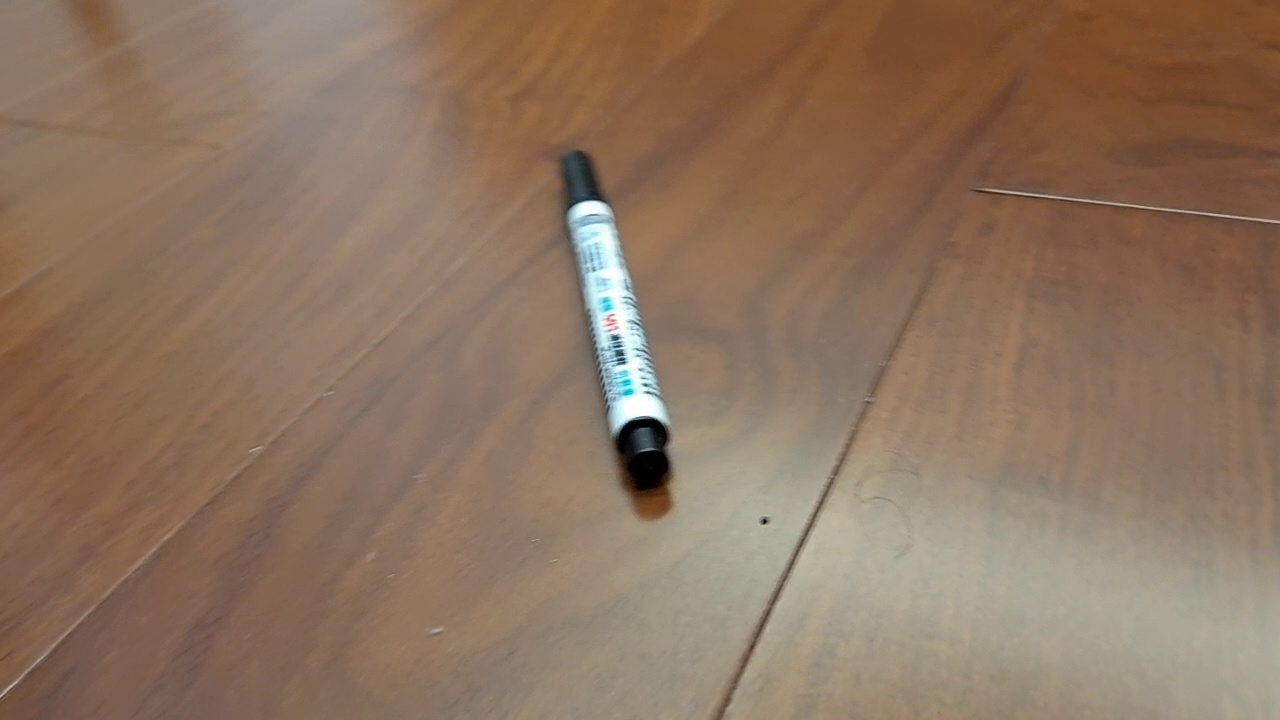pen: (558, 147, 674, 490)
